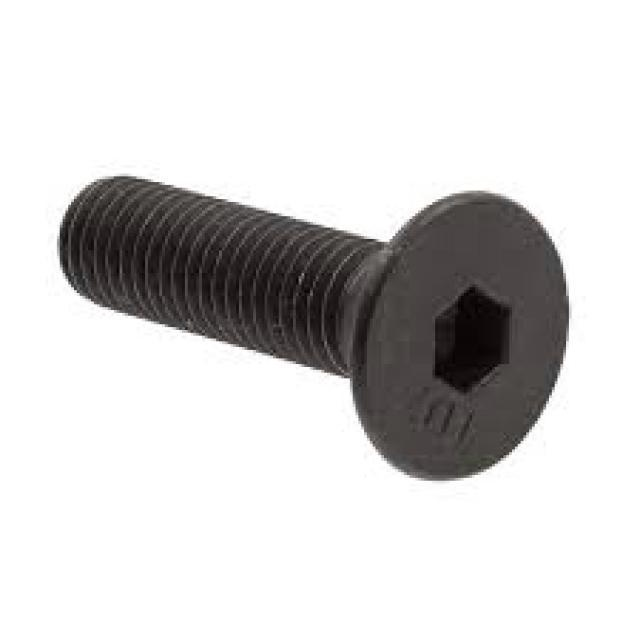torx: (350, 187, 571, 481)
